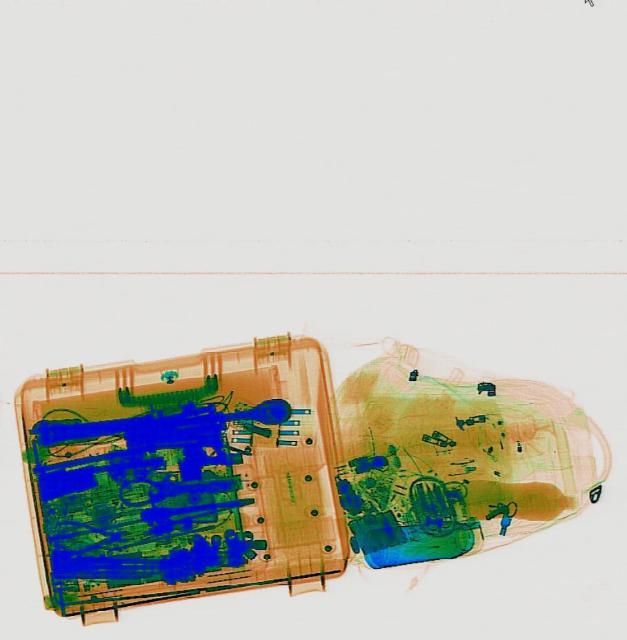Pliers: (51, 517, 130, 555)
